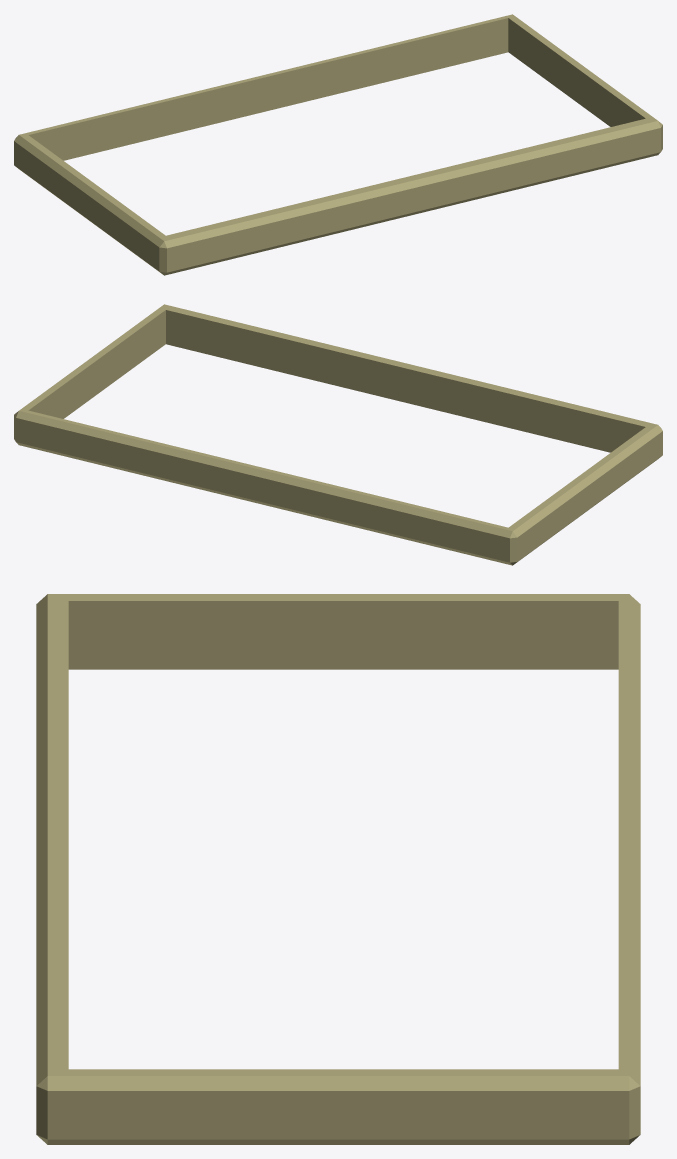
Rendered from 2x1Curtain.fbx.
The picture shows the model from 3 angles, top to bottom: view 1: azimuth 30°, elevation 25°; view 2: azimuth 150°, elevation 25°; view 3: azimuth 270°, elevation 25°; orthographic projection. The views are drawn at different scales.
Parts seen in each view (by area): view 1: 2x1Curtain; view 2: 2x1Curtain; view 3: 2x1Curtain.
Boxes of the visible parts, box(x1,y1,x2,y2) form: 2x1Curtain: box(14, 14, 662, 275); 2x1Curtain: box(14, 304, 662, 565); 2x1Curtain: box(36, 594, 640, 1144).
Size of the model in its own units: 842 by 54.91 by 437.
